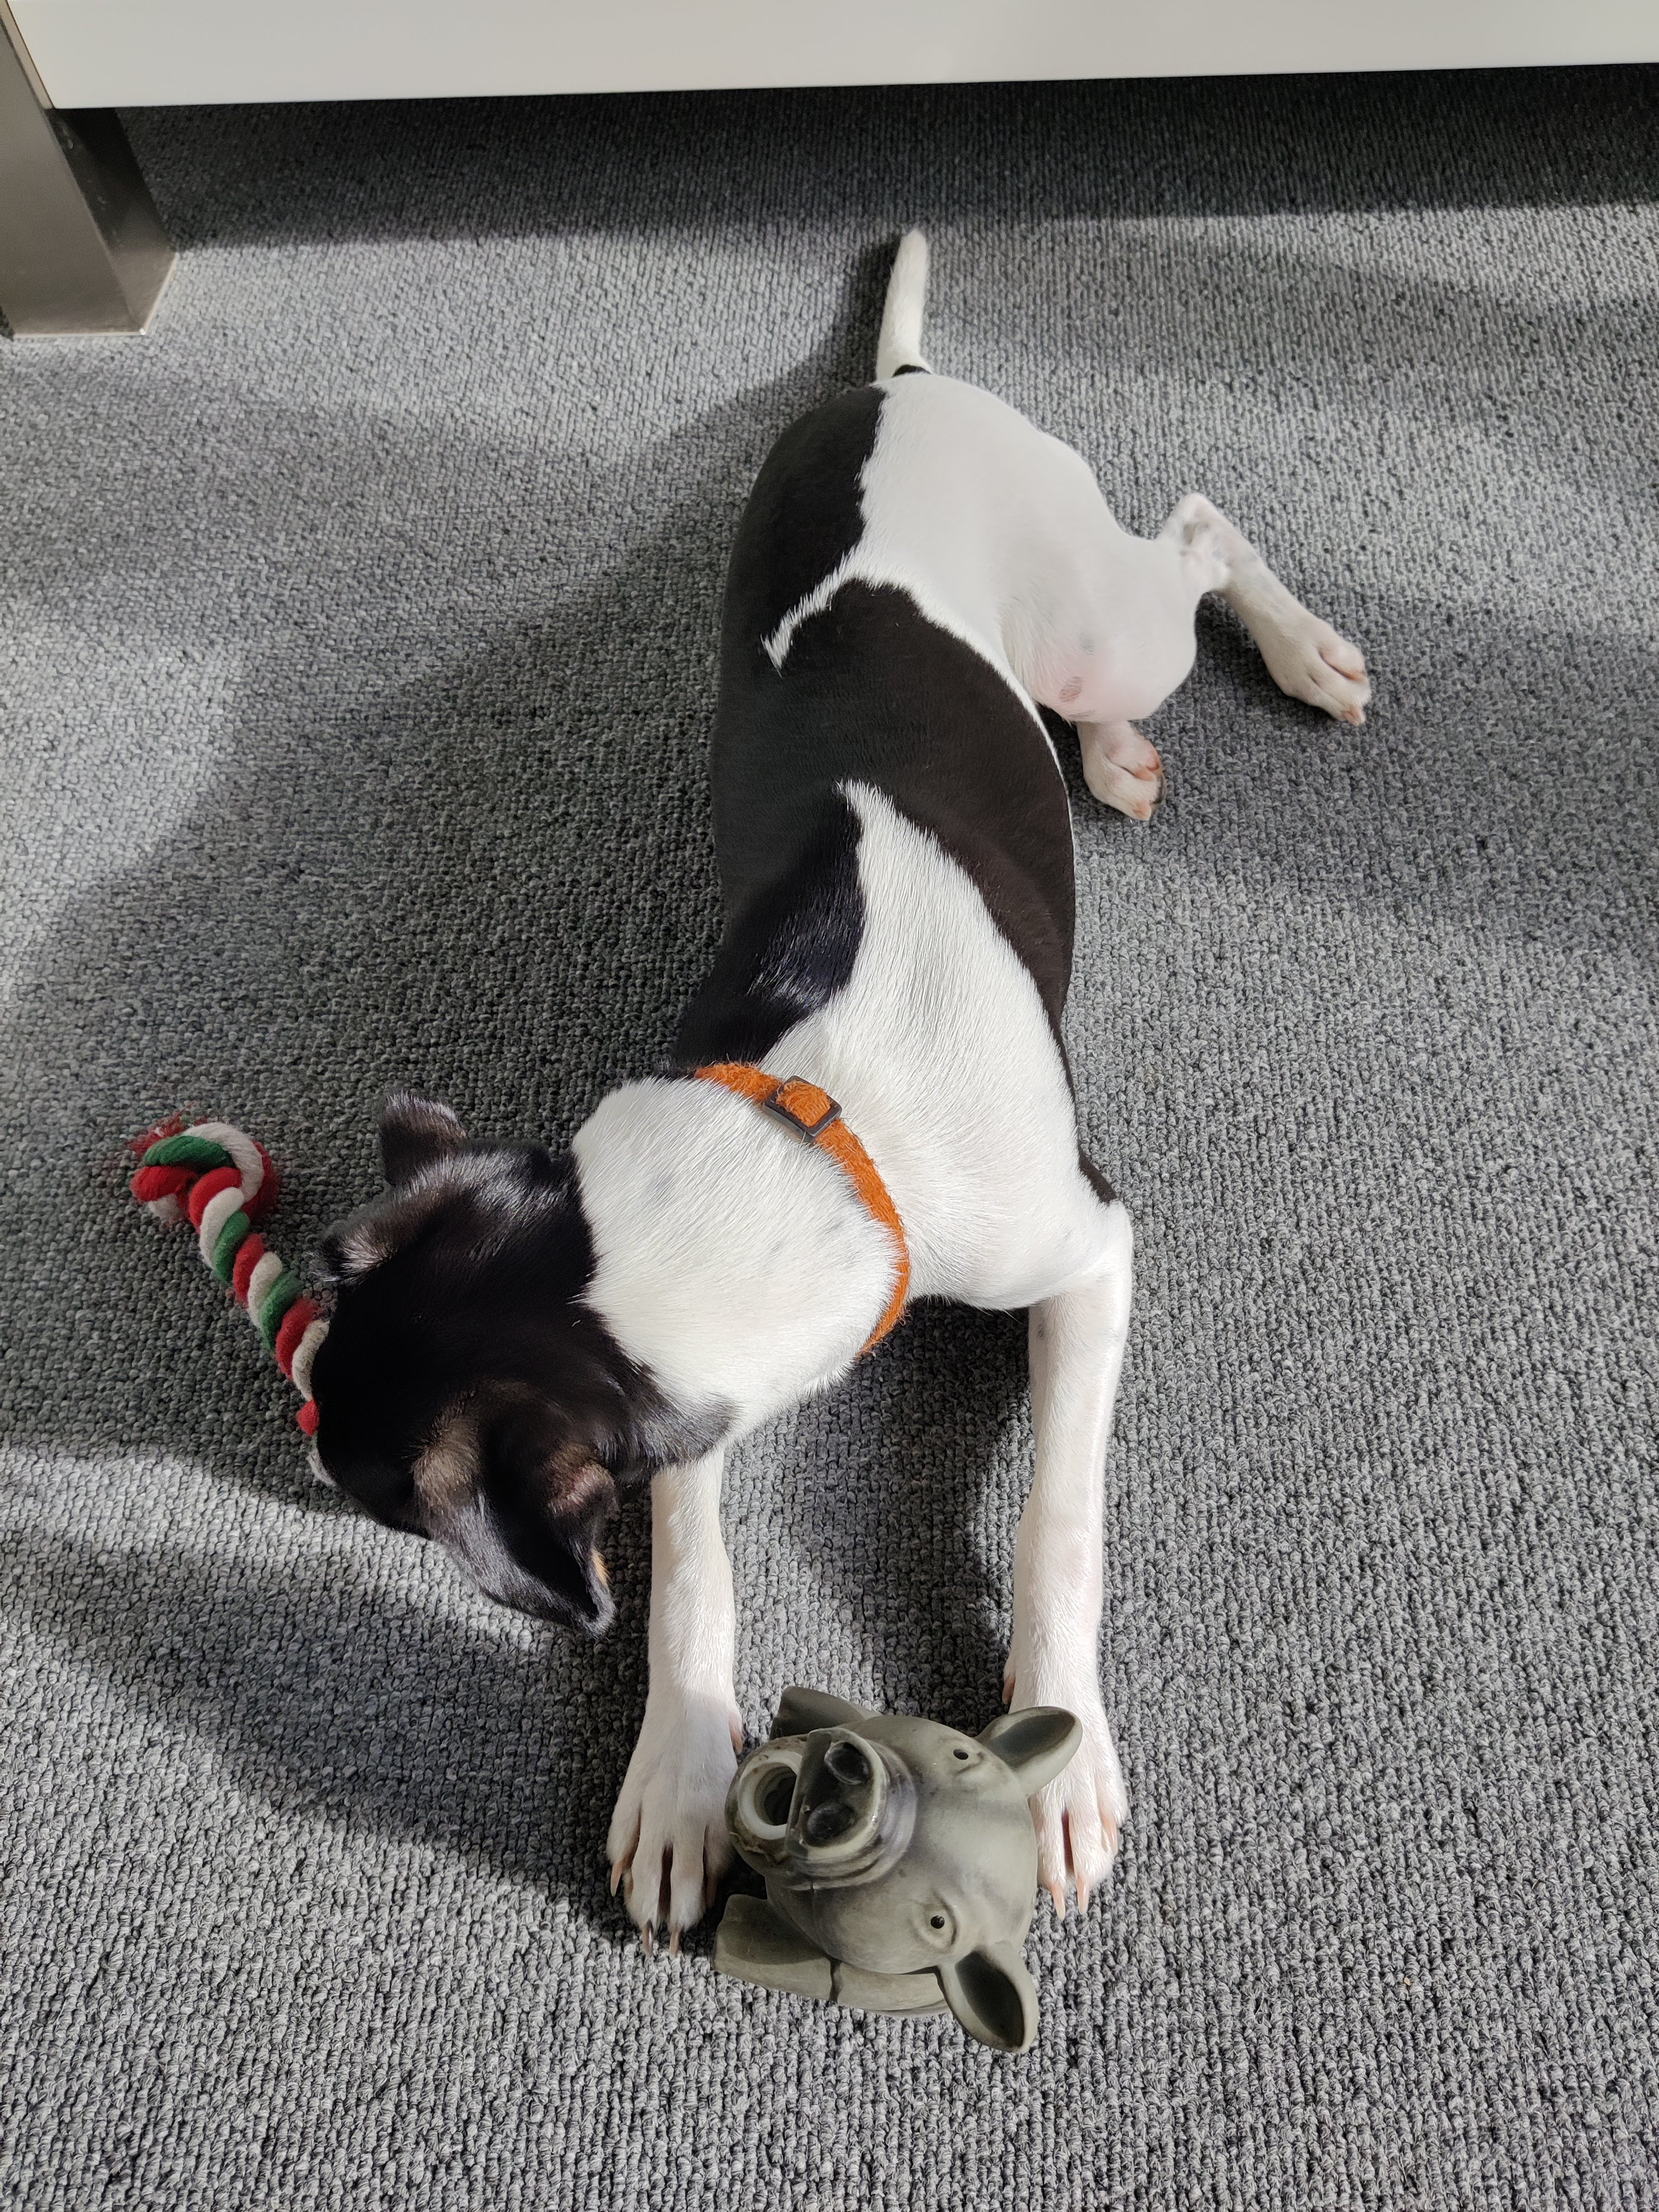Dog: (303, 223, 1378, 1956)
